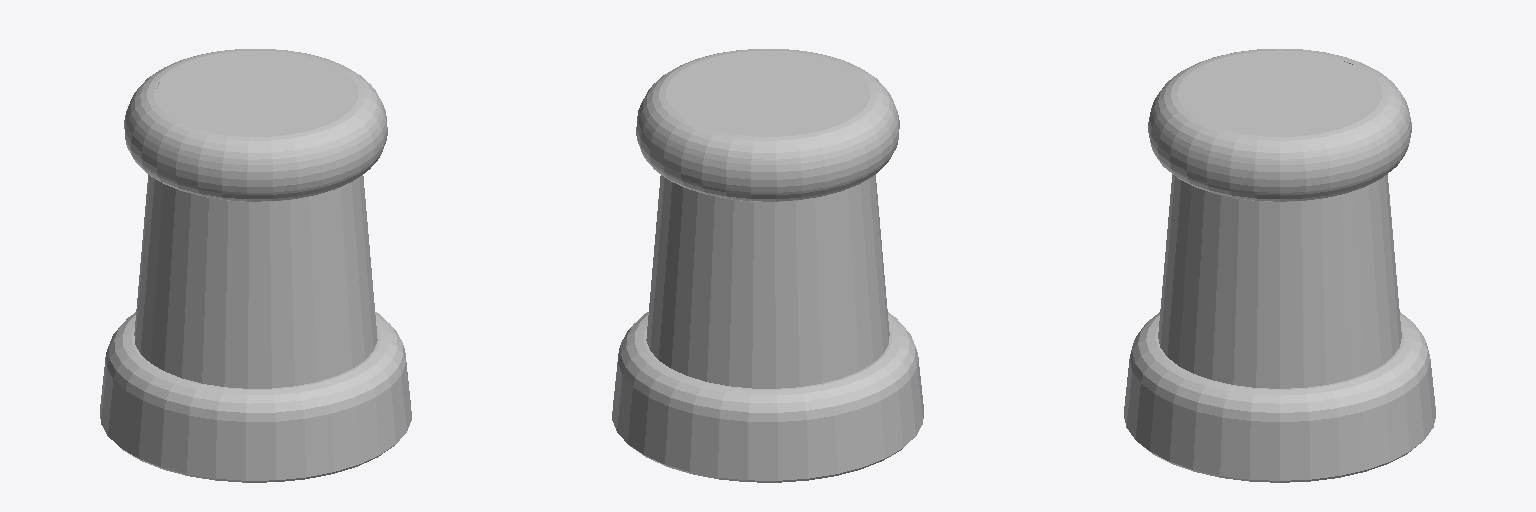
Rendered from SetA_Pot_Style_01.obj.
3 views of the same model, side by side, from view 1: azimuth 30°, elevation 25°; view 2: azimuth 150°, elevation 25°; view 3: azimuth 270°, elevation 25° (orthographic).
Visible parts, largest first — view 1: SetA_Pot_Style_01; view 2: SetA_Pot_Style_01; view 3: SetA_Pot_Style_01.
Part boxes in pixels (x1,y1,x2,y2): SetA_Pot_Style_01: (100,49,411,482); SetA_Pot_Style_01: (612,49,923,482); SetA_Pot_Style_01: (1124,49,1435,482).
Size of the model in its own units: 0.2693 by 0.3081 by 0.2693.